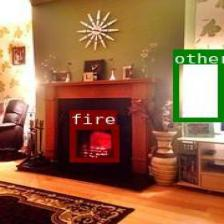fire: (69, 125, 117, 161)
